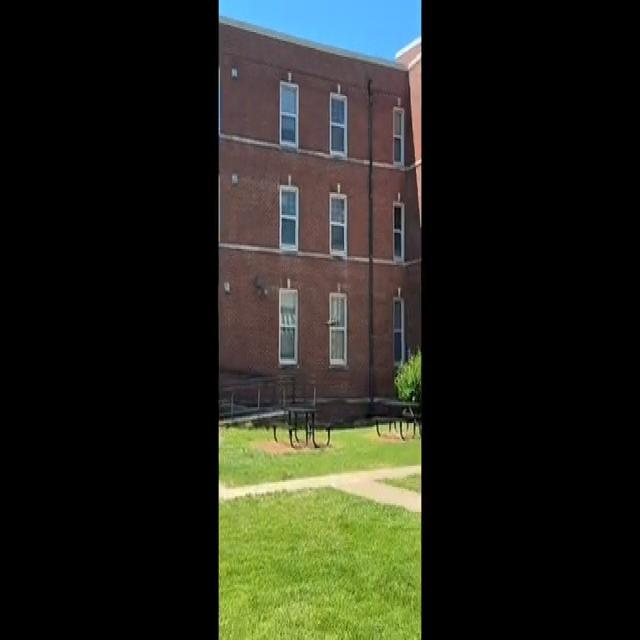drone: (321, 312, 343, 332)
